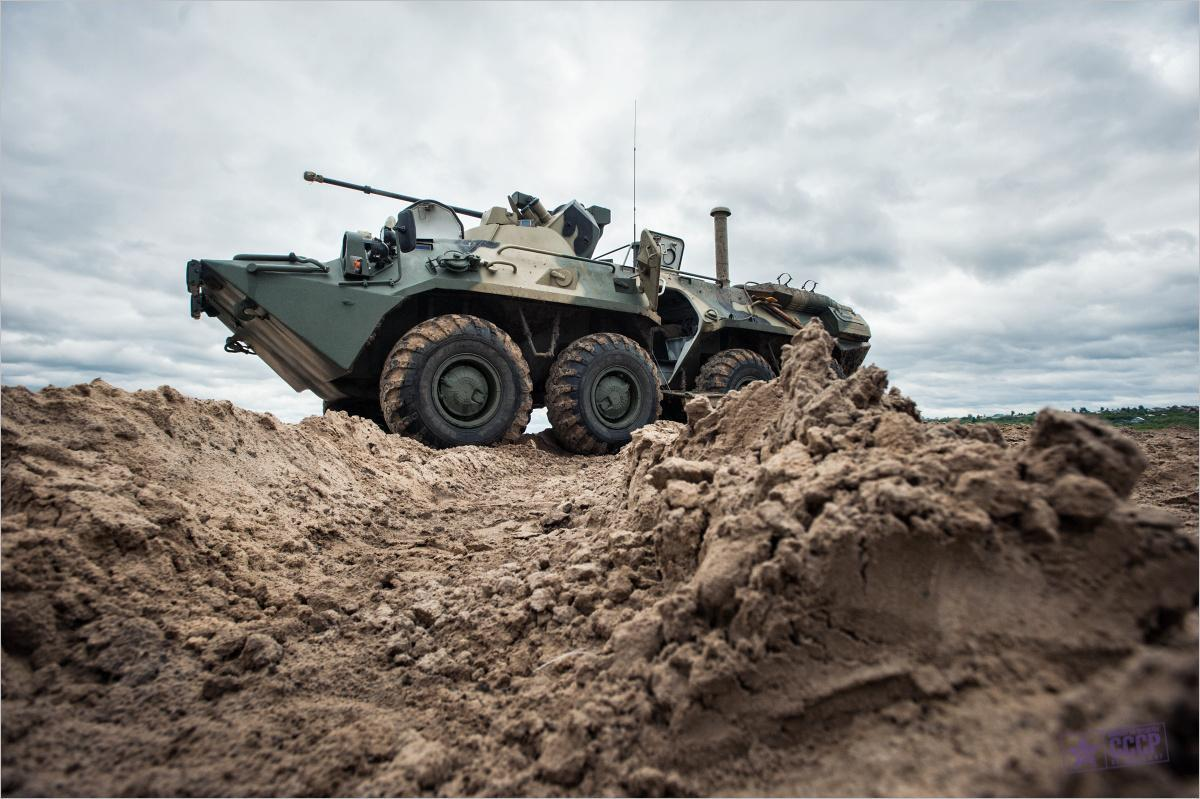tank: (186, 170, 871, 457)
